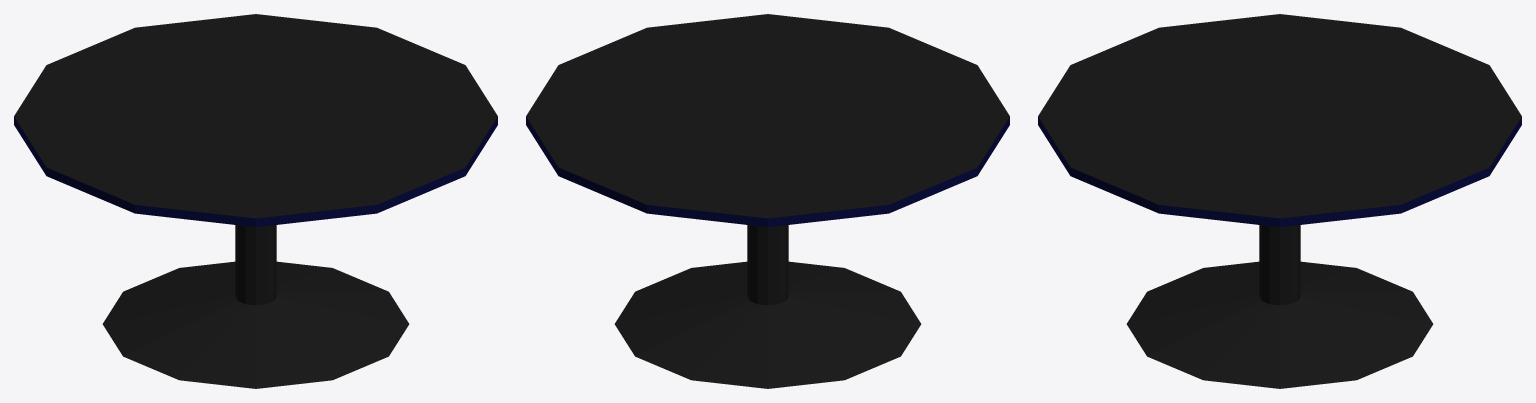
File: cafe-table.glb
3 views of the same model, side by side, from view 1: azimuth 30°, elevation 25°; view 2: azimuth 150°, elevation 25°; view 3: azimuth 270°, elevation 25° (orthographic).
Parts seen in each view (by area): view 1: Cylinder; view 2: Cylinder; view 3: Cylinder.
Part boxes in pixels (x1,y1,x2,y2): Cylinder: [14, 14, 497, 388]; Cylinder: [526, 14, 1009, 388]; Cylinder: [1038, 14, 1521, 388].
Size of the model in its own units: 1 by 0.4739 by 1.
